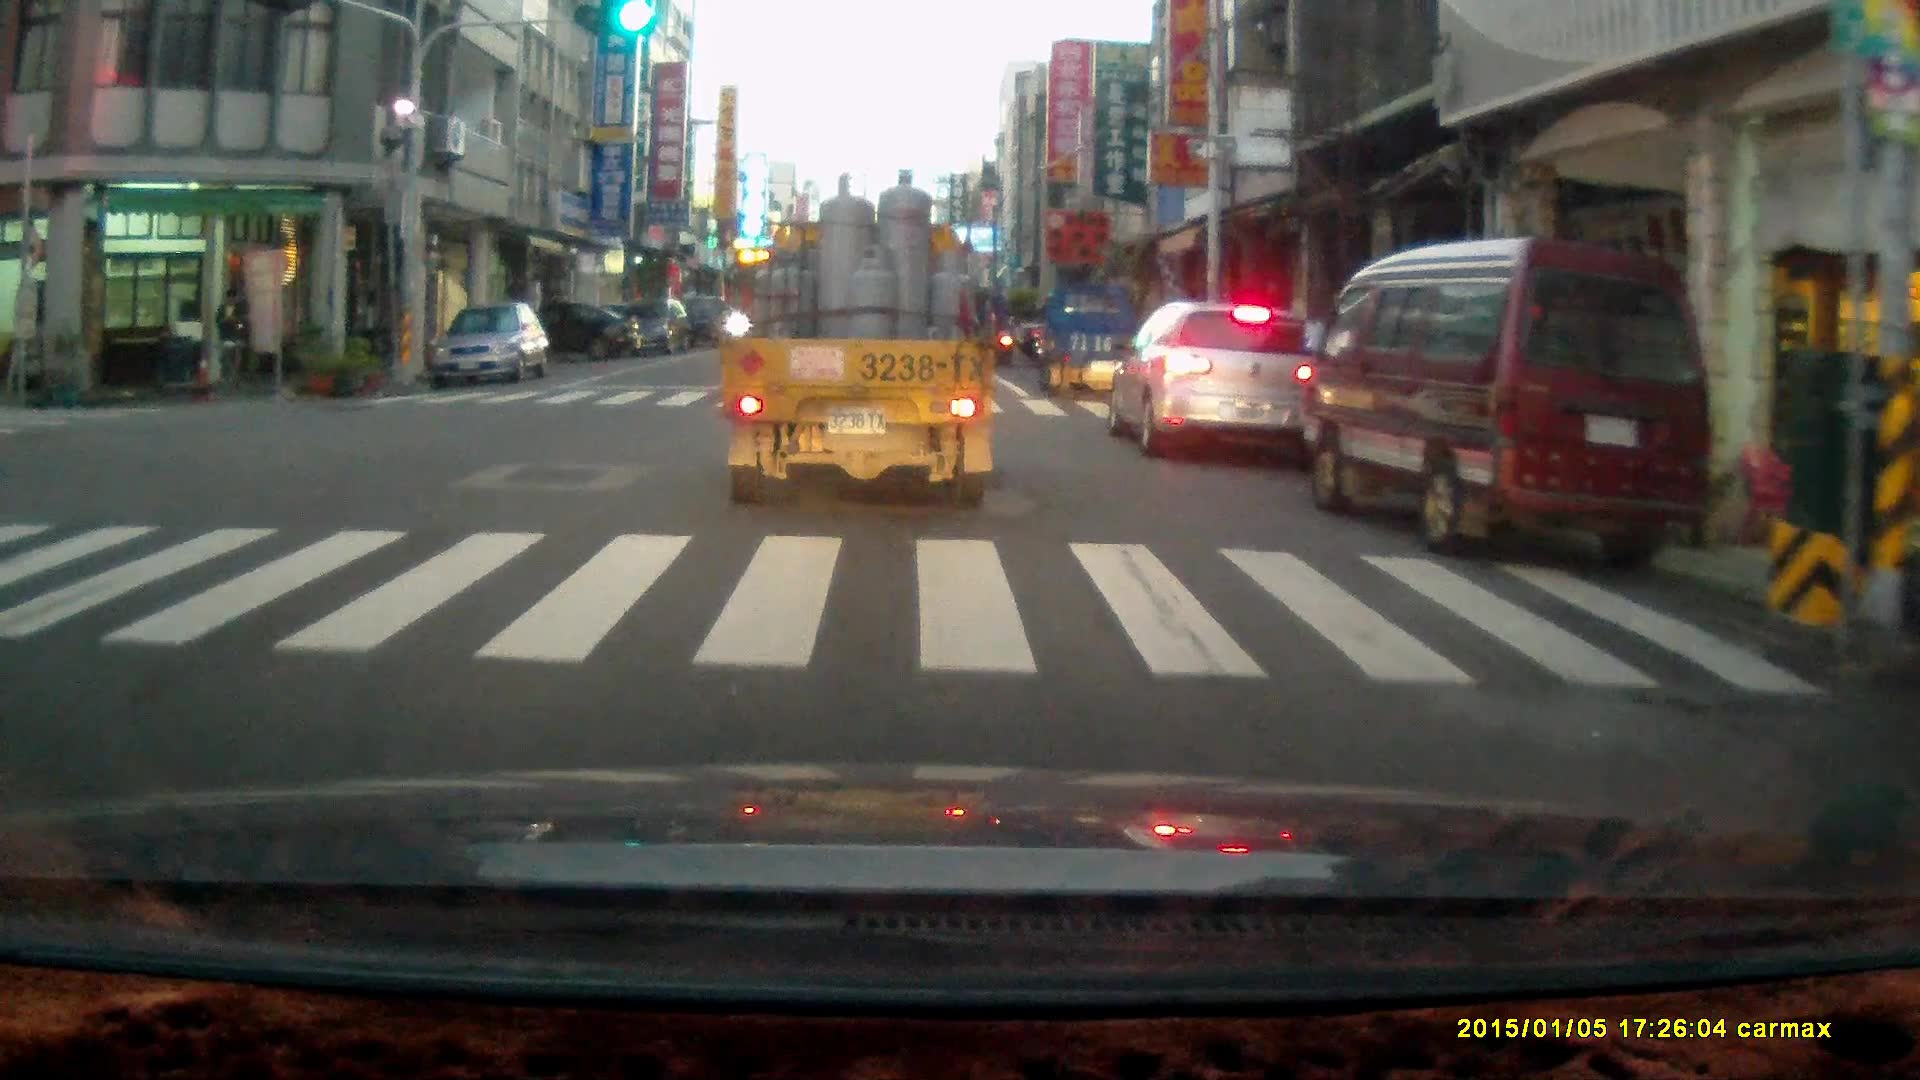pedestrian: (214, 282, 248, 396)
vehicle: (1299, 226, 1711, 568), (723, 162, 997, 513), (1110, 288, 1327, 462), (1039, 273, 1159, 401), (429, 294, 547, 385), (485, 295, 636, 361), (598, 301, 692, 356)
